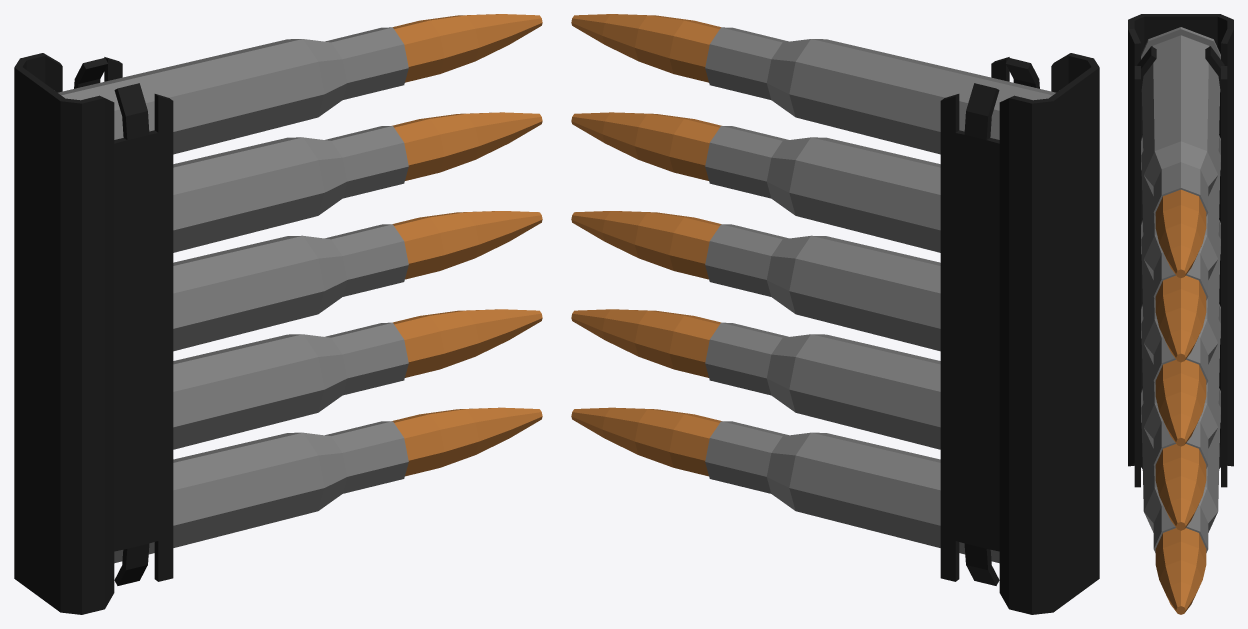
File: mosin_nagant_189130_magazine.glb
3 renders of one model, left to right at view 1: azimuth 30°, elevation 25°; view 2: azimuth 150°, elevation 25°; view 3: azimuth 270°, elevation 25°, orthographic. The views are drawn at different scales.
Visible parts, largest first — view 1: mosin9130 clip_9 (×3); view 2: mosin9130 clip_9 (×3); view 3: mosin9130 clip_9 (×3).
Part boxes in pixels (x1,y1,x2,y2): mosin9130 clip_9 (×3): (14,14,542,614); mosin9130 clip_9 (×3): (571,14,1099,614); mosin9130 clip_9 (×3): (1128,14,1233,614).
Bounding box in the file's own units: 0.7733 × 0.7522 × 0.1648.
